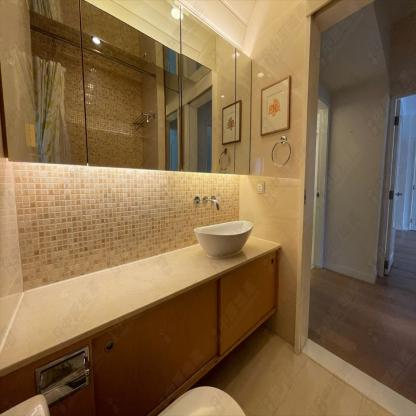Faucet: (190, 194, 227, 214)
Toilet Sink: (193, 218, 253, 258)
